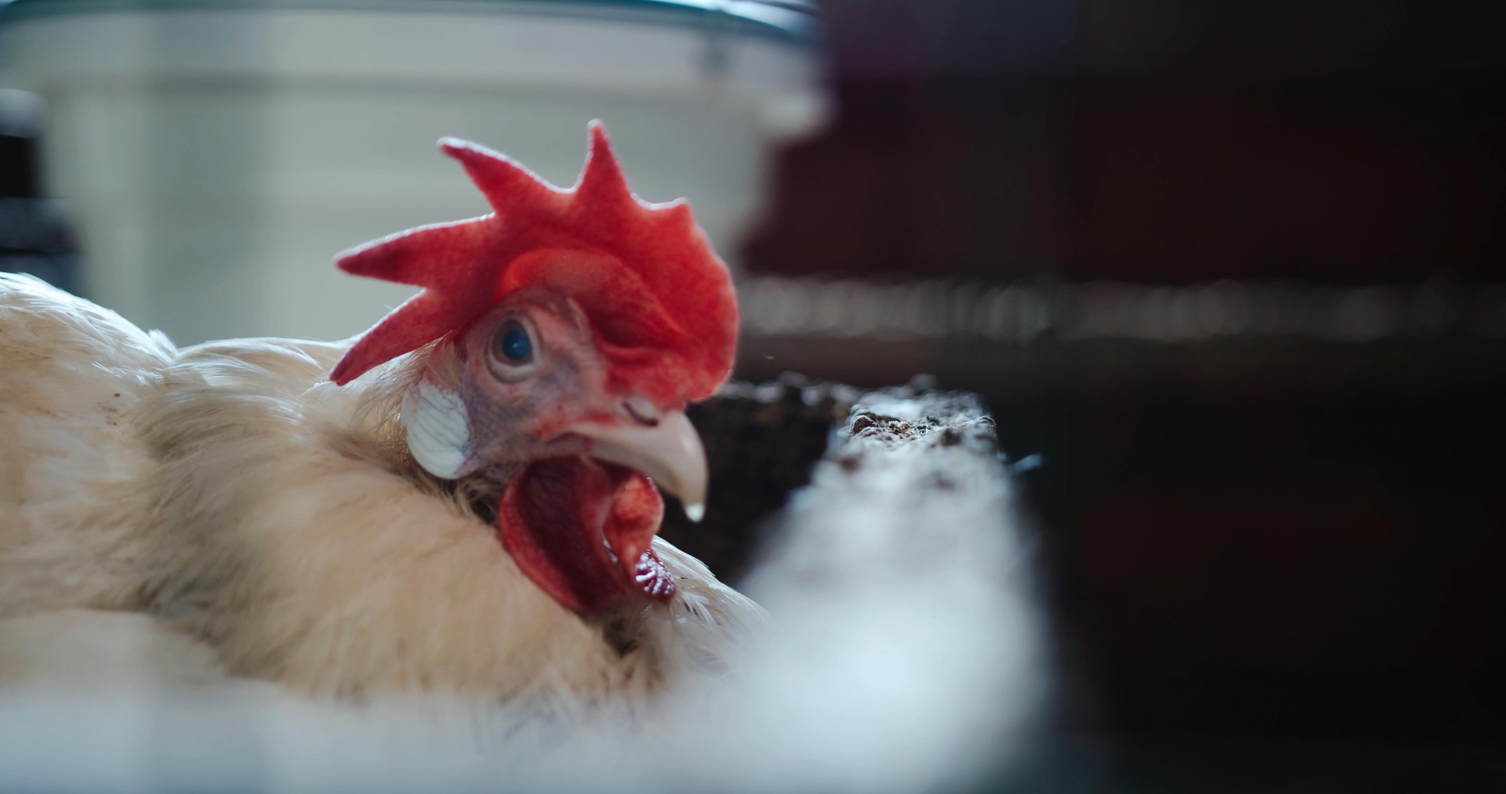Normal: (39, 138, 738, 653)
